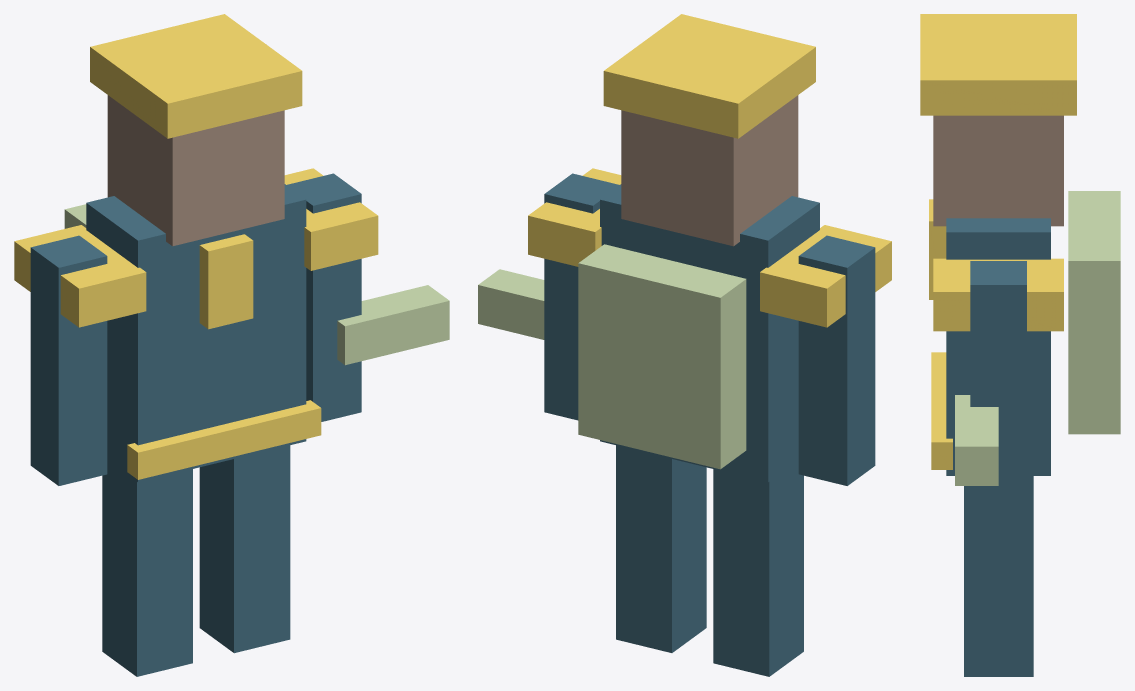
Rendered from 09_asha_cinderholt_smith_of_tempest.glb.
3 renders of one model, left to right at view 1: azimuth 30°, elevation 25°; view 2: azimuth 150°, elevation 25°; view 3: azimuth 270°, elevation 25°, orthographic.
Visible parts, largest first — view 1: Asha Cinderholt, Smith of Tempest; view 2: Asha Cinderholt, Smith of Tempest; view 3: Asha Cinderholt, Smith of Tempest.
Boxes of the visible parts, x1,y1,x2,y2 form: Asha Cinderholt, Smith of Tempest: [14, 14, 449, 676]; Asha Cinderholt, Smith of Tempest: [478, 14, 891, 676]; Asha Cinderholt, Smith of Tempest: [920, 14, 1120, 676].
Size of the model in its own units: 1.01 by 1.48 by 0.4533.
